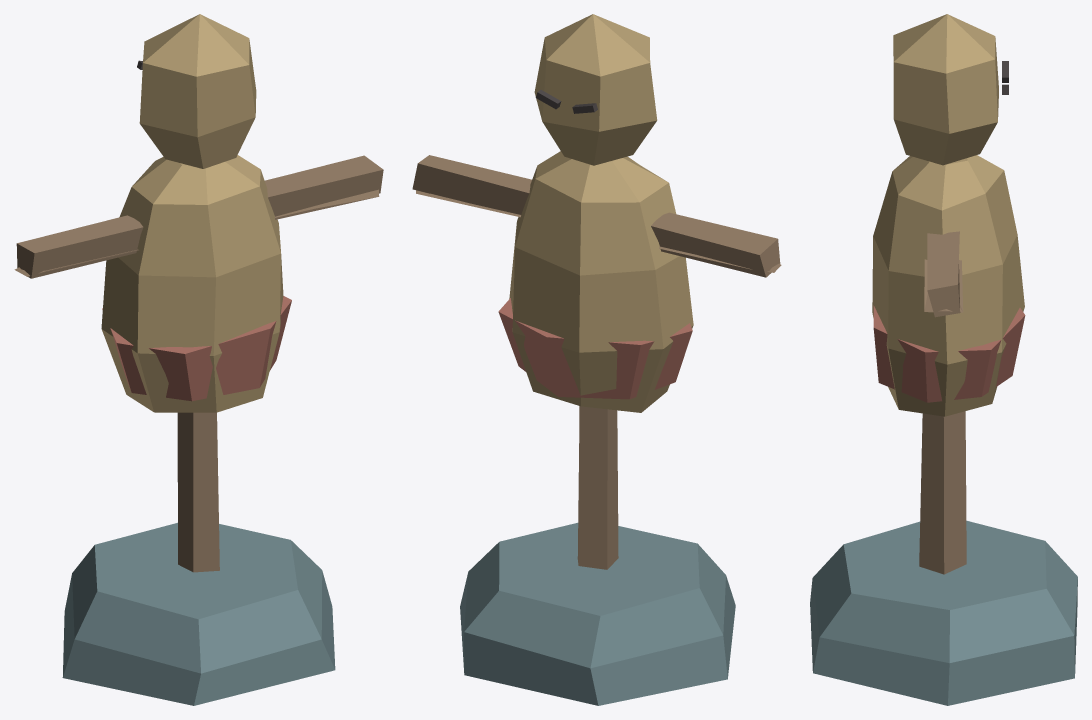
The model's file is dummy_parts.glb.
The picture shows the model from 3 angles, left to right: view 1: azimuth 30°, elevation 25°; view 2: azimuth 150°, elevation 25°; view 3: azimuth 270°, elevation 25°; orthographic projection.
Parts seen in each view (by area): view 1: DummyBody, DummyBase; view 2: DummyBody, DummyBase; view 3: DummyBody, DummyBase.
Boxes of the visible parts, x1,y1,x2,y2 form: DummyBody: [14, 14, 383, 572]; DummyBase: [62, 522, 335, 705]; DummyBody: [412, 14, 781, 569]; DummyBase: [460, 522, 735, 705]; DummyBody: [872, 14, 1025, 574]; DummyBase: [810, 520, 1077, 705].
Bounding box in the file's own units: 1.18 × 1.97 × 0.757.
